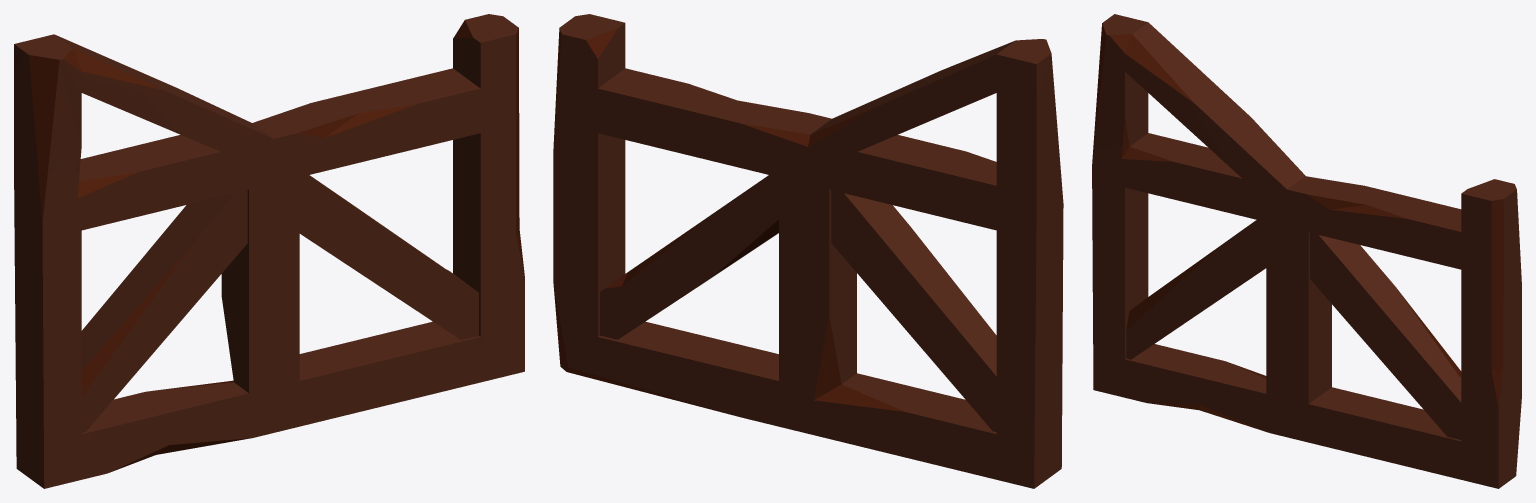
The model's file is Gate_Door_Left.001.fbx.
3 renders of one model, left to right at view 1: azimuth 30°, elevation 25°; view 2: azimuth 150°, elevation 25°; view 3: azimuth 330°, elevation 25°, orthographic. The views are drawn at different scales.
Visible parts, largest first — view 1: Gate_Door_Left.001; view 2: Gate_Door_Left.001; view 3: Gate_Door_Left.001.
Part boxes in pixels (x1,y1,x2,y2): Gate_Door_Left.001: (14,14,524,488); Gate_Door_Left.001: (553,14,1063,488); Gate_Door_Left.001: (1092,14,1521,488).
Size of the model in its own units: 41.79 by 35.14 by 4.13.
